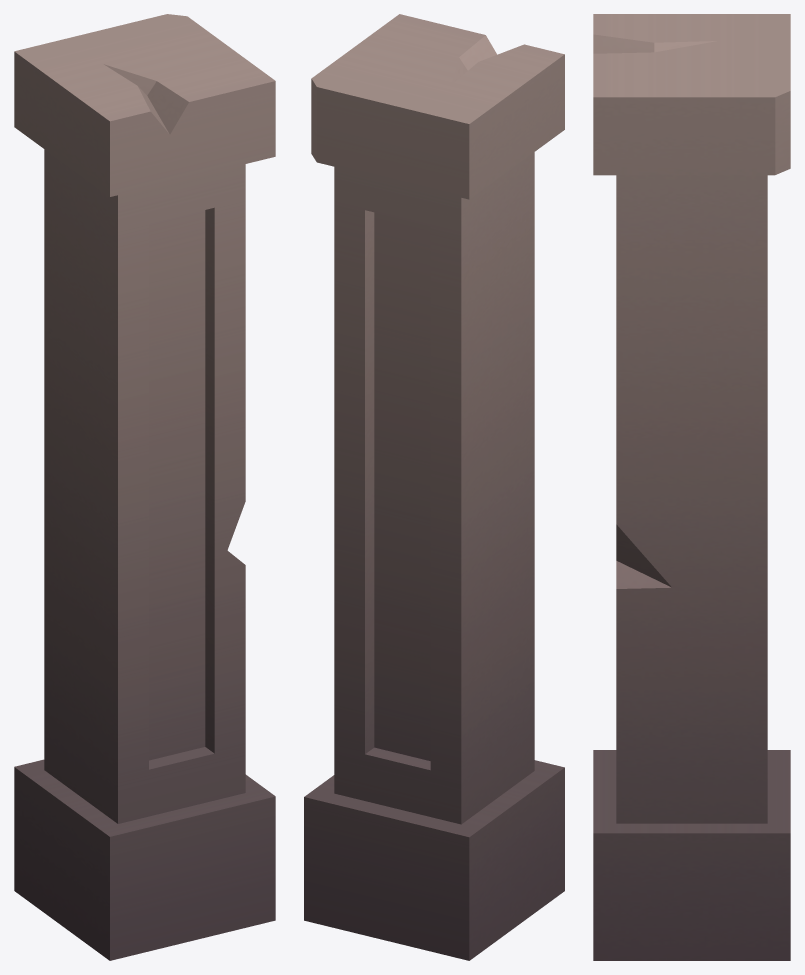
The model's file is fenceBPillar3.glb.
The picture shows the model from 3 angles, left to right: view 1: azimuth 30°, elevation 25°; view 2: azimuth 150°, elevation 25°; view 3: azimuth 270°, elevation 25°; orthographic projection. The views are drawn at different scales.
Parts seen in each view (by area): view 1: fenceBPillar3; view 2: fenceBPillar3; view 3: fenceBPillar3.
Part boxes in pixels (x1,y1,x2,y2): fenceBPillar3: [14, 14, 275, 960]; fenceBPillar3: [304, 14, 564, 960]; fenceBPillar3: [593, 14, 790, 960].
Size of the model in its own units: 0.359 by 1.74 by 0.359.
1 material, 1 textured.
